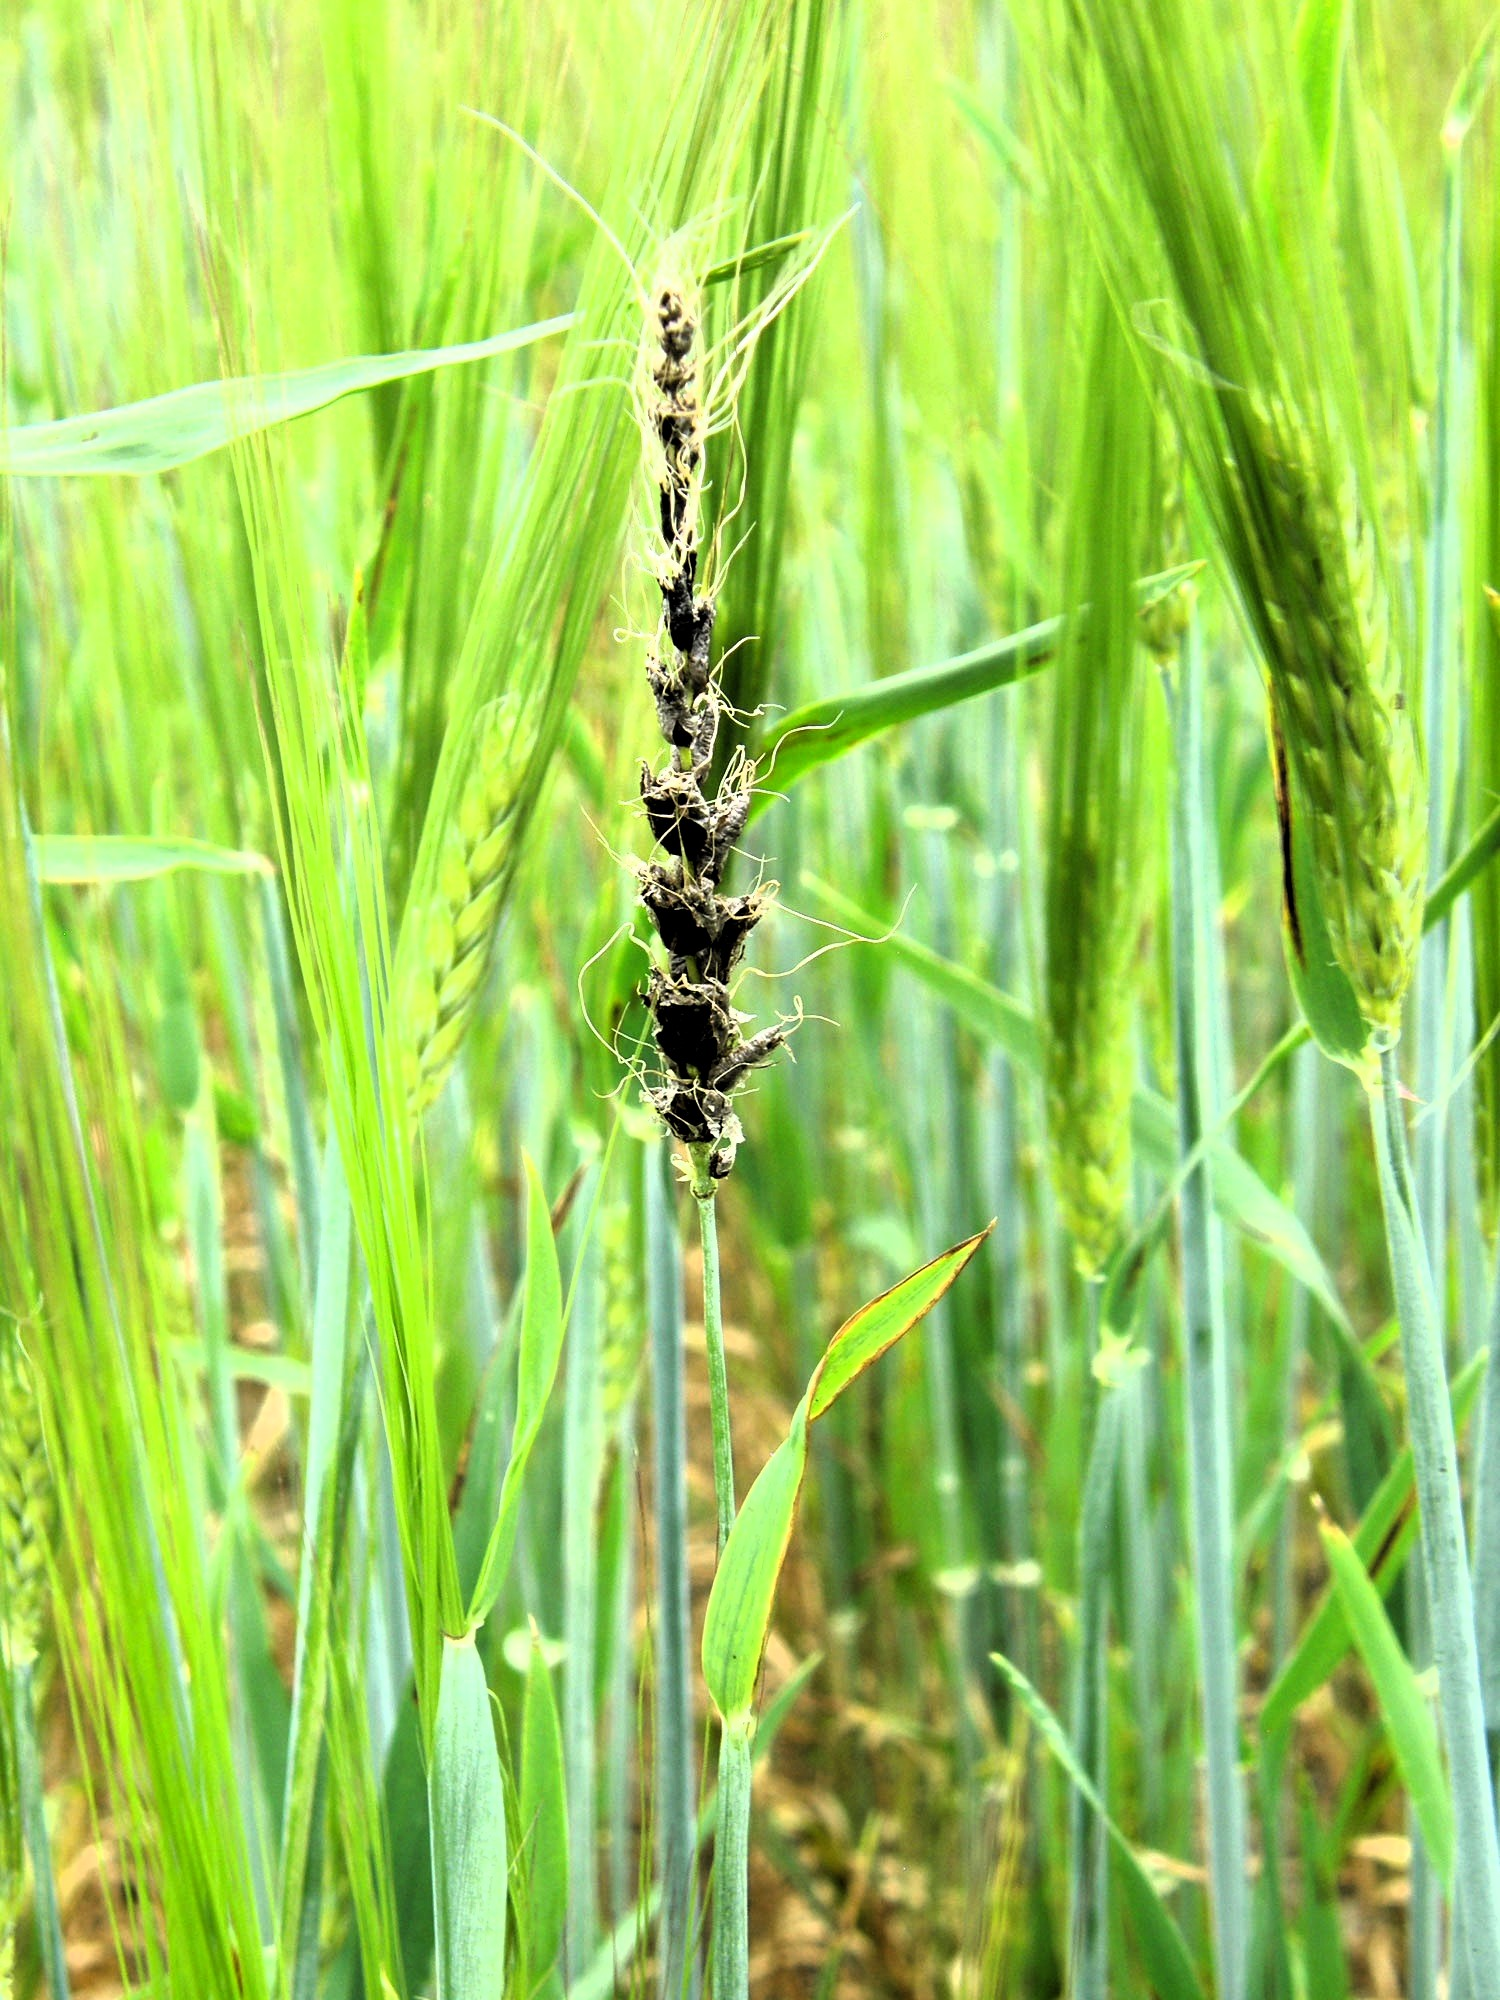Wheat Loose Smut: (578, 564, 822, 1143)
